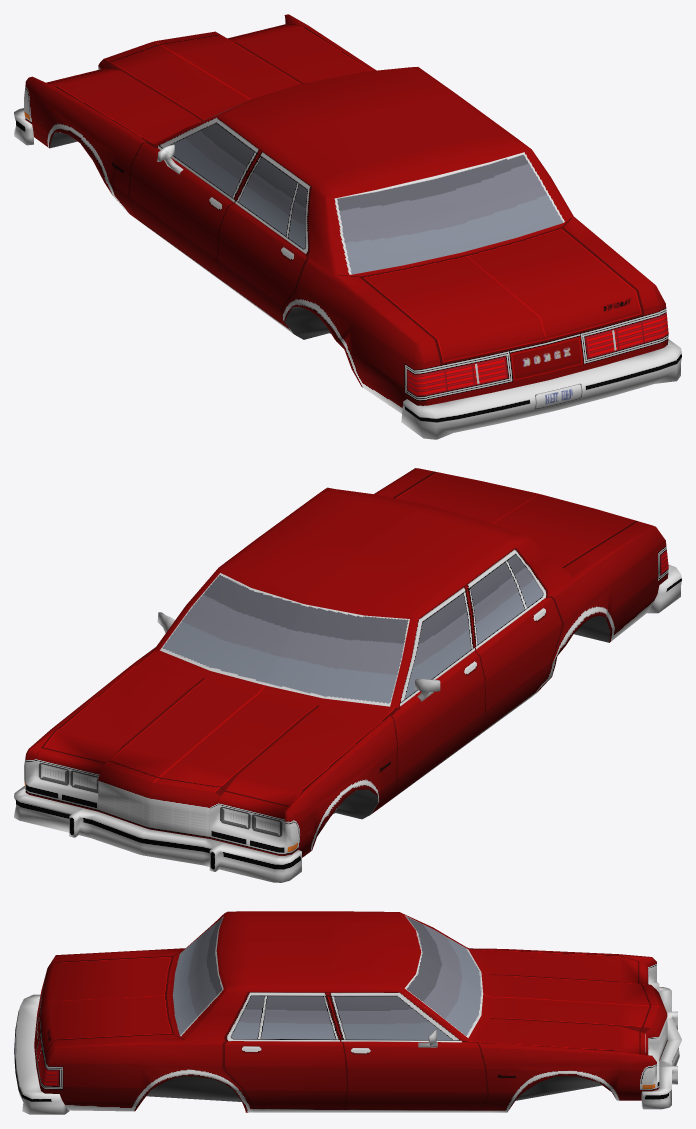
The model's file is 78Diplomat.fbx.
3 views of the same model, one above another, from view 1: azimuth 30°, elevation 25°; view 2: azimuth 150°, elevation 25°; view 3: azimuth 270°, elevation 25° (orthographic). The views are drawn at different scales.
Visible parts, largest first — view 1: 89diplomat; view 2: 89diplomat; view 3: 89diplomat.
Part boxes in pixels (box(x1,y1,x2,y2)): 89diplomat: box(14, 14, 681, 439); 89diplomat: box(14, 468, 681, 882); 89diplomat: box(14, 911, 681, 1114).
Size of the model in its own units: 2.07 by 1.12 by 5.35.
